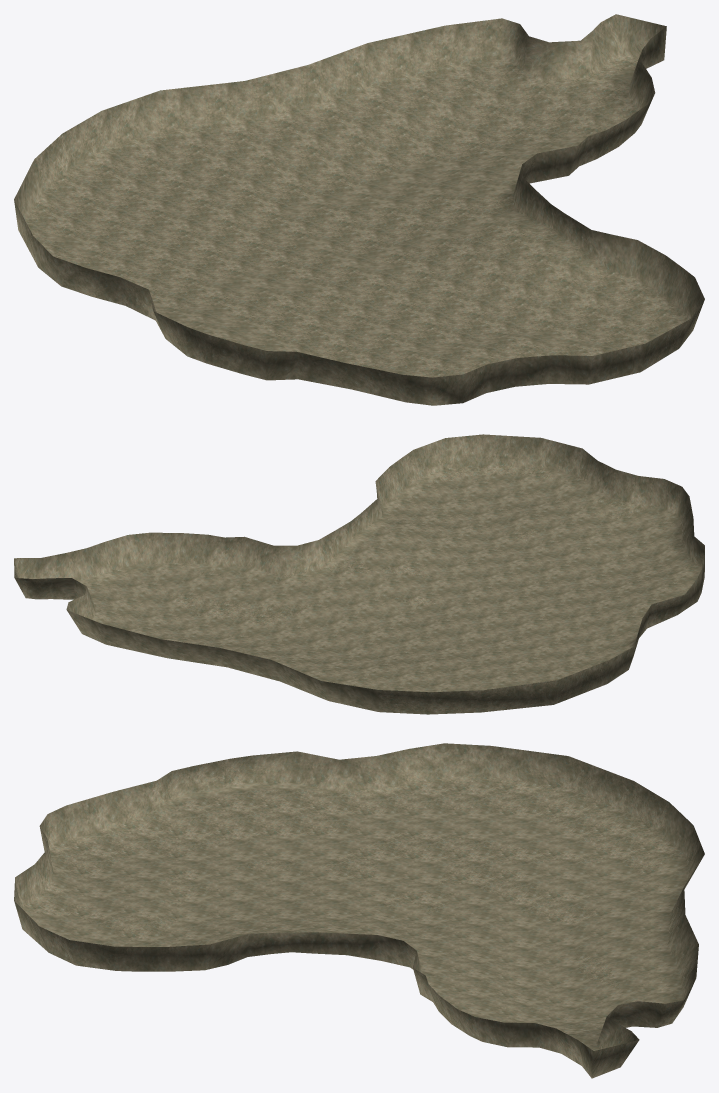
The model's file is OVERHILL_A_01_OBJECT207.fbx.
3 renders of one model, top to bottom at view 1: azimuth 30°, elevation 25°; view 2: azimuth 150°, elevation 25°; view 3: azimuth 270°, elevation 25°, orthographic. The views are drawn at different scales.
Parts seen in each view (by area): view 1: OVERHILL_A_01_OBJECT207; view 2: OVERHILL_A_01_OBJECT207; view 3: OVERHILL_A_01_OBJECT207.
Boxes of the visible parts, x1,y1,x2,y2 form: OVERHILL_A_01_OBJECT207: [14, 14, 704, 405]; OVERHILL_A_01_OBJECT207: [14, 434, 704, 714]; OVERHILL_A_01_OBJECT207: [14, 743, 704, 1078].
Bounding box in the file's own units: 308898 × 23443 × 292802.
Materials: 2 (2 with a texture image).
